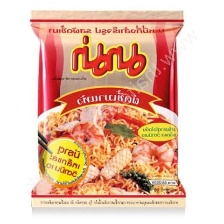snack: (23, 2, 196, 214)
